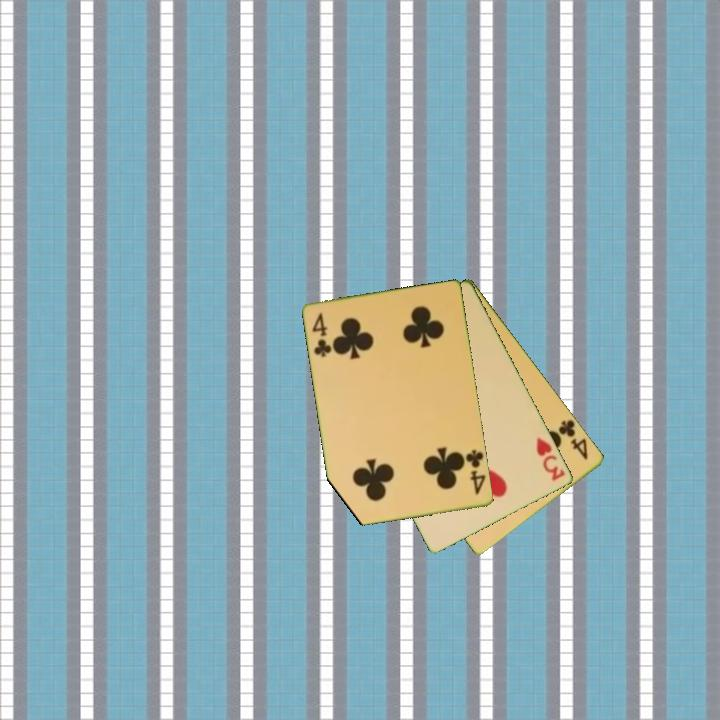3h: (533, 434, 568, 484)
4c: (552, 416, 591, 463), (460, 446, 489, 498), (309, 309, 334, 360)
